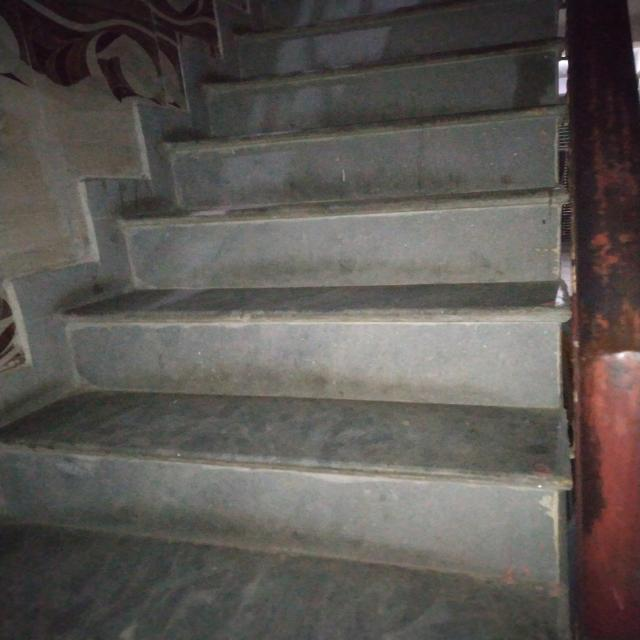Stairs: (7, 11, 630, 617)
